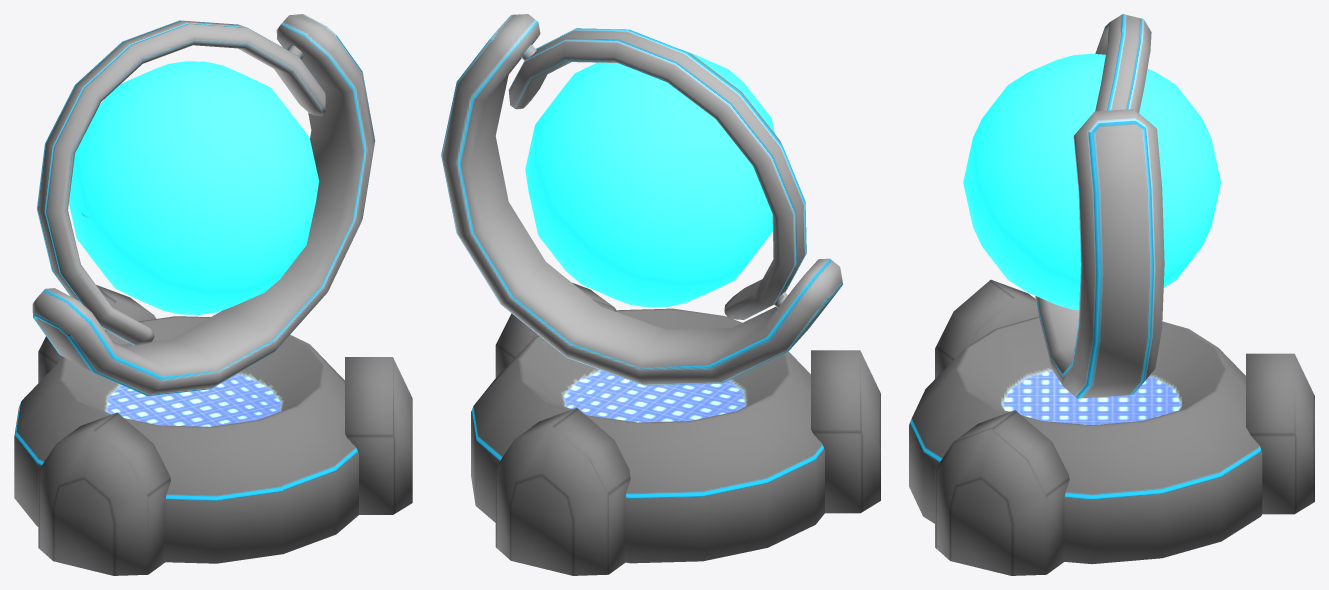
The model's file is Core.fbx.
The picture shows the model from 3 angles, left to right: view 1: azimuth 30°, elevation 25°; view 2: azimuth 150°, elevation 25°; view 3: azimuth 270°, elevation 25°; orthographic projection. The views are drawn at different scales.
Parts seen in each view (by area): view 1: Core_Core, Core_Base, Core_Gimbal_Outter, Core_Legs, Core_Gimbal_Inner; view 2: Core_Base, Core_Core, Core_Gimbal_Outter, Core_Legs, Core_Gimbal_Inner; view 3: Core_Base, Core_Core, Core_Legs, Core_Gimbal_Outter, Core_Gimbal_Inner.
Boxes of the visible parts, left/top/right/bottom form: Core_Core: left=69, top=61, right=319, bottom=314; Core_Base: left=14, top=316, right=358, bottom=563; Core_Gimbal_Outter: left=32, top=14, right=375, bottom=396; Core_Legs: left=38, top=285, right=412, bottom=575; Core_Gimbal_Inner: left=37, top=20, right=325, bottom=345; Core_Base: left=471, top=308, right=824, bottom=563; Core_Core: left=525, top=49, right=774, bottom=307; Core_Gimbal_Outter: left=441, top=14, right=842, bottom=385; Core_Legs: left=495, top=282, right=880, bottom=575; Core_Gimbal_Inner: left=508, top=28, right=806, bottom=319; Core_Base: left=909, top=317, right=1262, bottom=564; Core_Core: left=963, top=53, right=1220, bottom=310; Core_Legs: left=935, top=279, right=1314, bottom=575; Core_Gimbal_Outter: left=1035, top=109, right=1164, bottom=398; Core_Gimbal_Inner: left=1095, top=14, right=1151, bottom=112.
Bounding box in the file's own units: 994 × 1175 × 943.
1 material, 1 textured.
